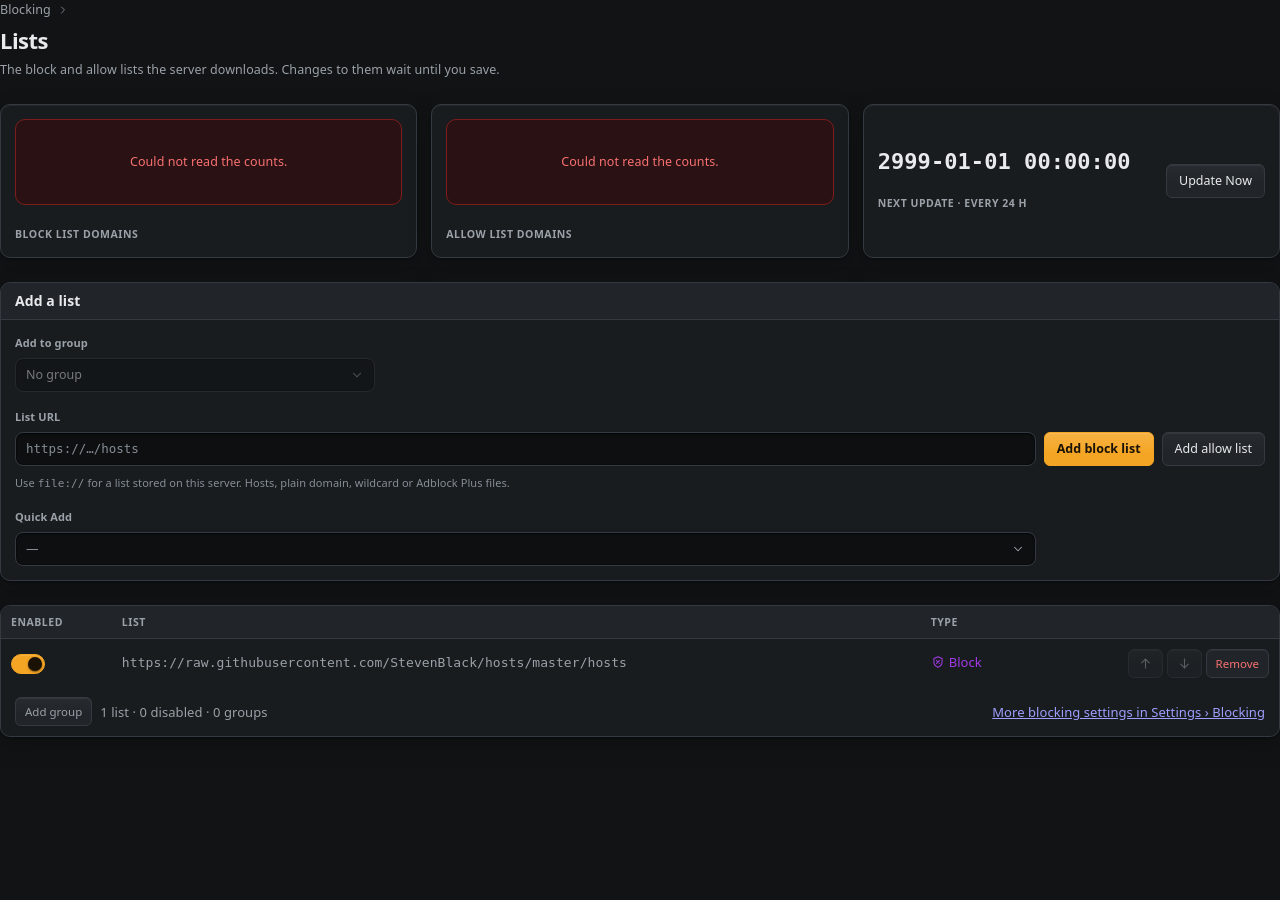
Scenario: BlockLists › after a save the next update is the one the server answers
Expected: the table is shown, x1=1 y1=606 x2=1279 y2=687
Expected: the text "Not Scheduled" is not shown
Step 1. Click the dropdown named "Quick Add" → point(32, 548), box x1=15 y1=532 x2=1036 y2=566
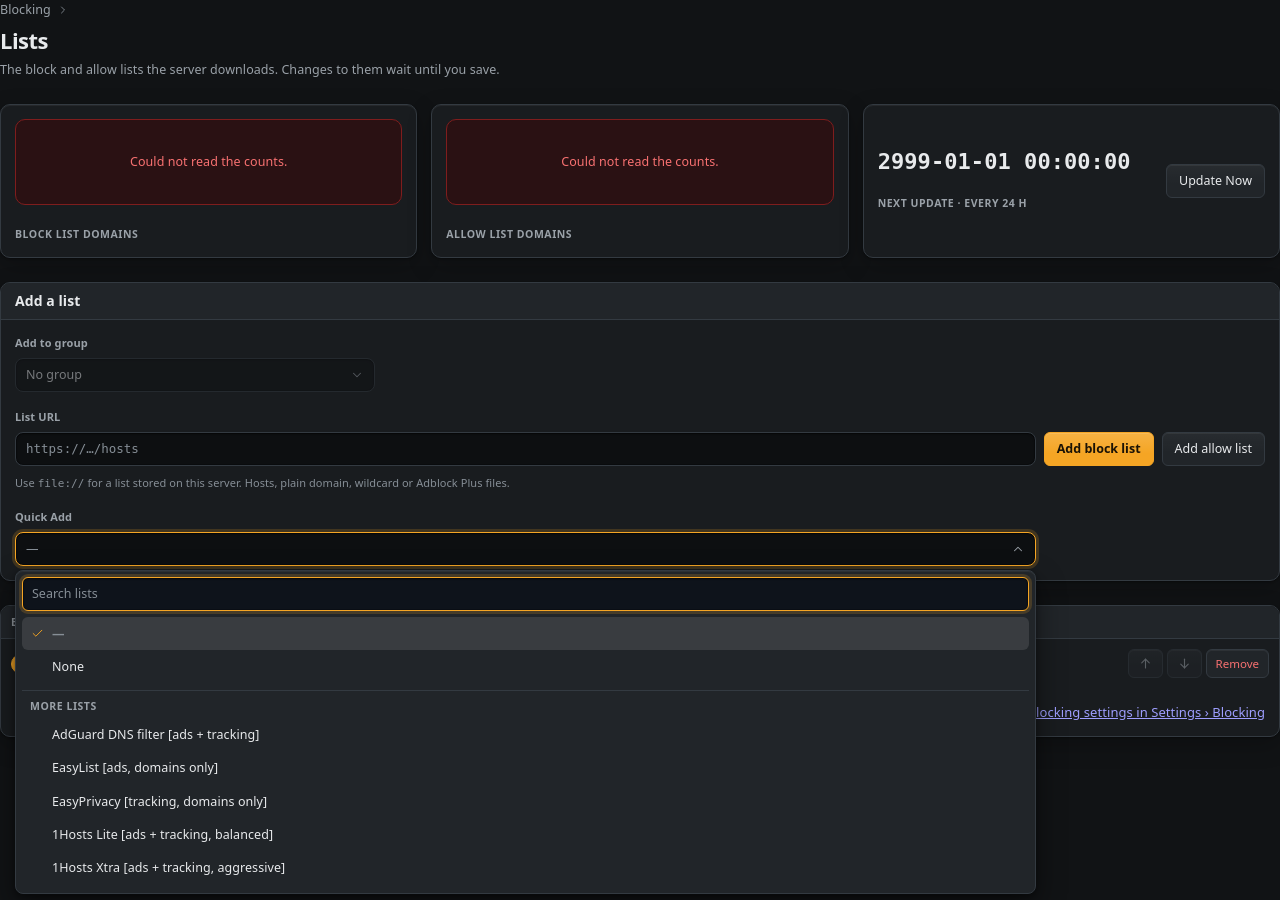
Step 2. Click the option "None" → point(68, 667), box x1=52 y1=658 x2=84 y2=675
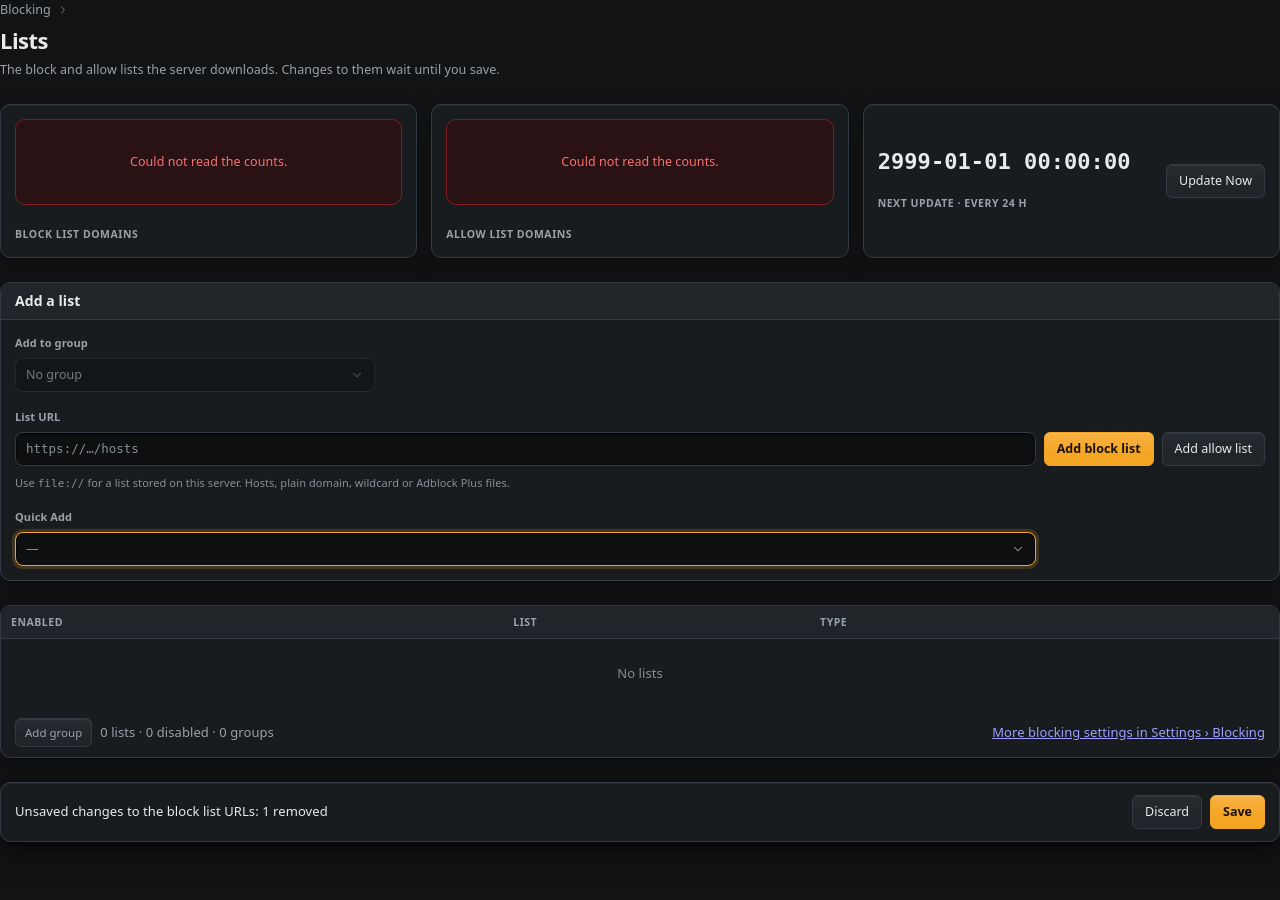
Step 3. Click the button "Save" → point(1238, 812), box x1=1210 y1=794 x2=1265 y2=828
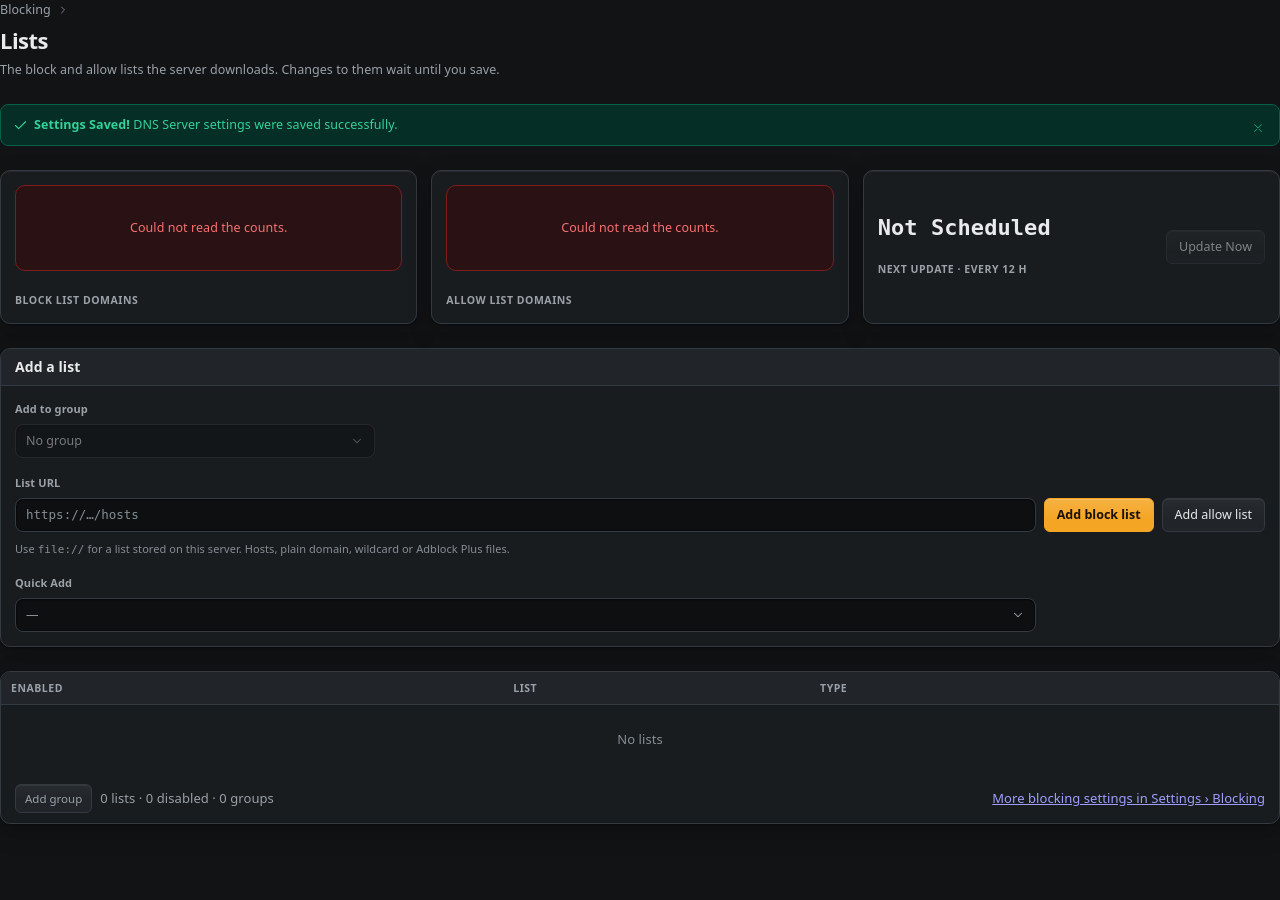
Expected: the text "DNS Server settings were saved successfully." is shown, x1=133 y1=116 x2=398 y2=133
Expected: the text "Not Scheduled" is shown, x1=878 y1=216 x2=1051 y2=240
Expected: the text "Next update · every 12 h" is shown, x1=878 y1=261 x2=1051 y2=278
